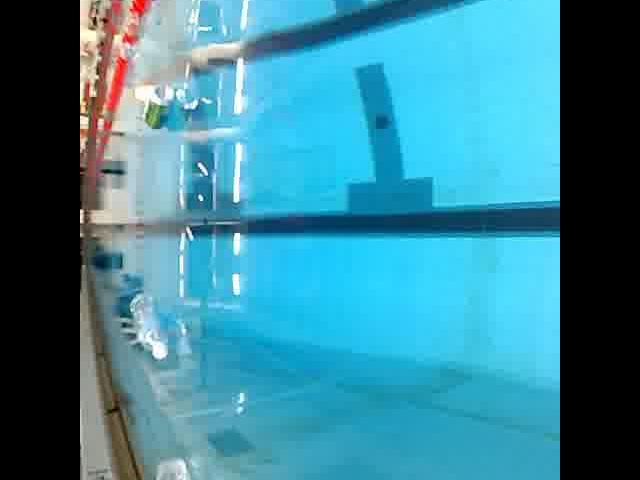Bottle: (130, 287, 176, 364), (137, 80, 185, 132), (151, 448, 193, 480)
